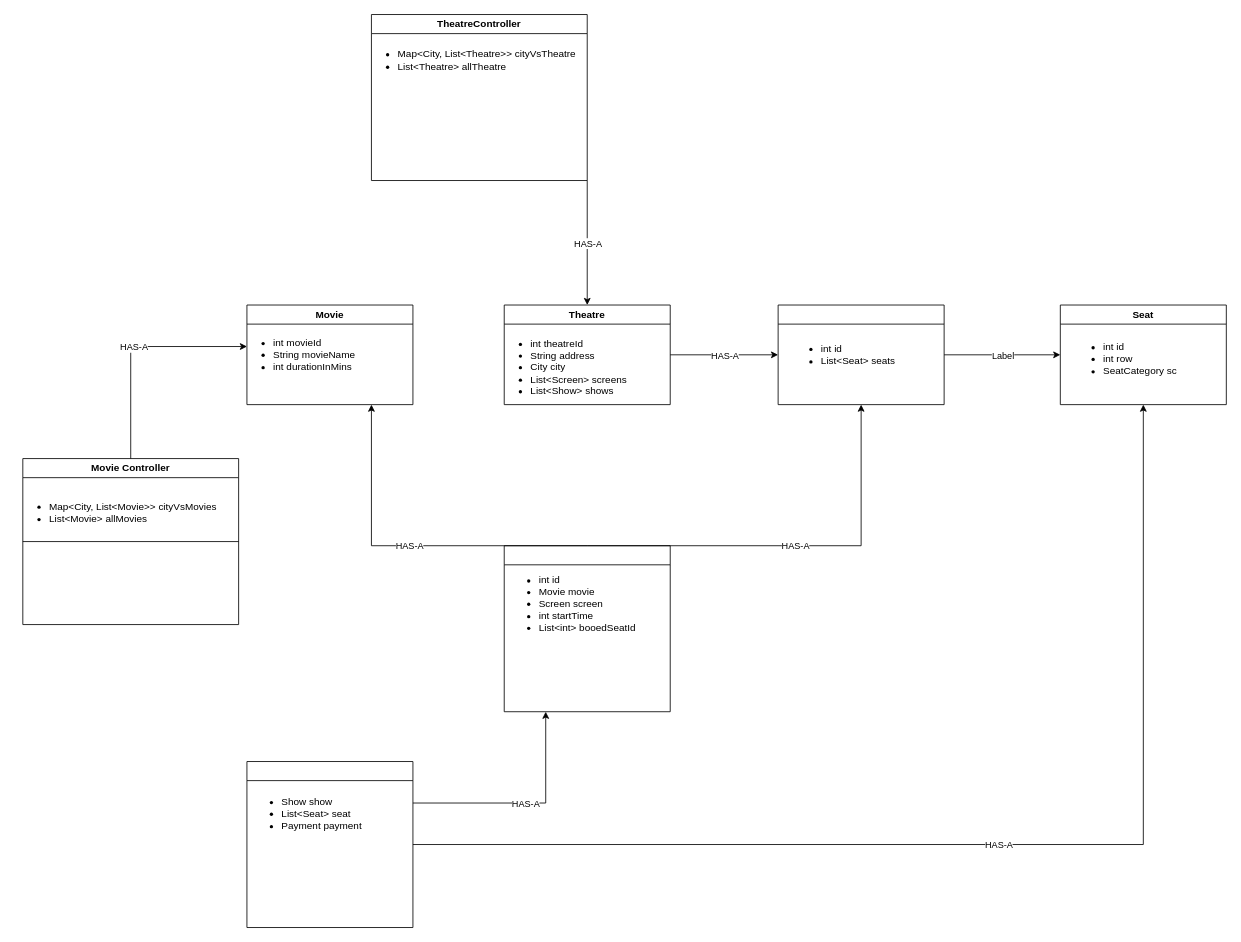
Image size: 1241x942. Some labels were removed from this diagram. The shapes that lost their labels are listed below. From the top down, each one's box as (x1, y1, x2, y2) in pixels, then its label:
(777, 304, 944, 405): Screen
(503, 545, 670, 712): Show
(246, 761, 413, 928): Booking
